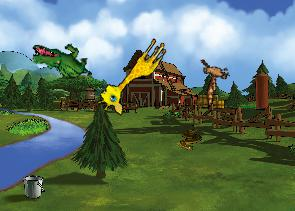crocodile: (31, 41, 92, 80)
eagle: (187, 50, 239, 108)
giraffe: (93, 29, 170, 120)
